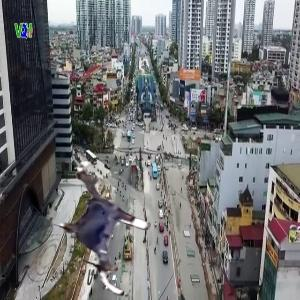drone: (34, 160, 170, 296)
